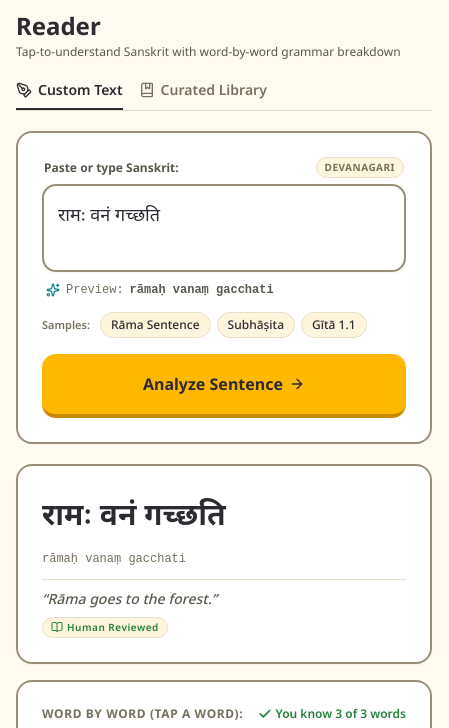
Test: Reader Flow & Progressive Disclosure › shows typing preview and analyzes text when sample button is clicked
// Click sample "Subhāṣita"
Click the button with test id "sample-subhāṣita".
click(256, 325)  # box left=217, top=312, right=295, bottom=338
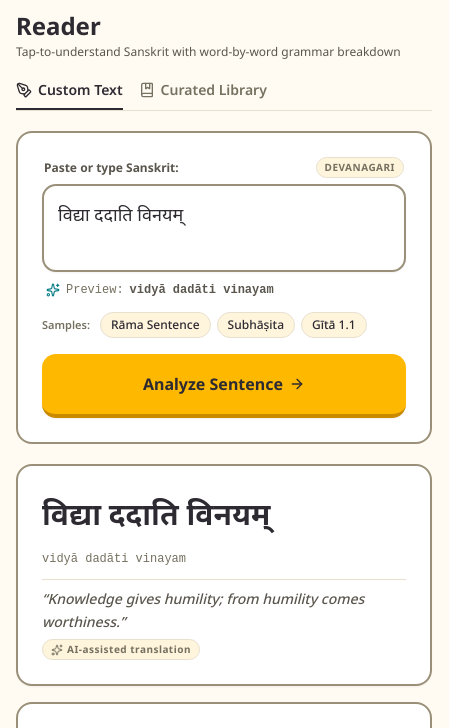
expect the text with test id "reader-sanskrit-display" reads "विद्या ददाति विनयम्": met, box left=42, top=493, right=270, bottom=534
